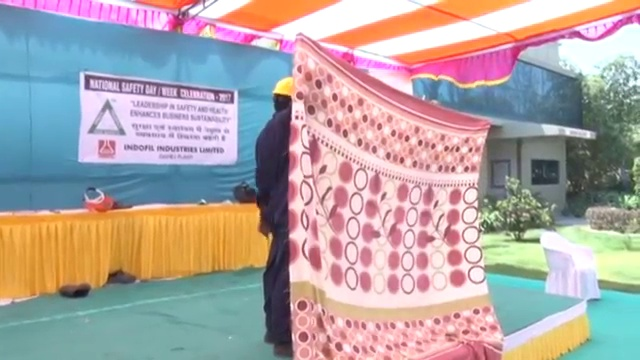helmet: (272, 76, 295, 97)
helmet_on: (271, 76, 294, 116)
person: (251, 76, 296, 358)
